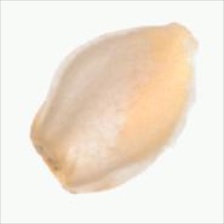L1: (29, 21, 198, 194), (28, 134, 72, 193), (161, 20, 202, 50)
